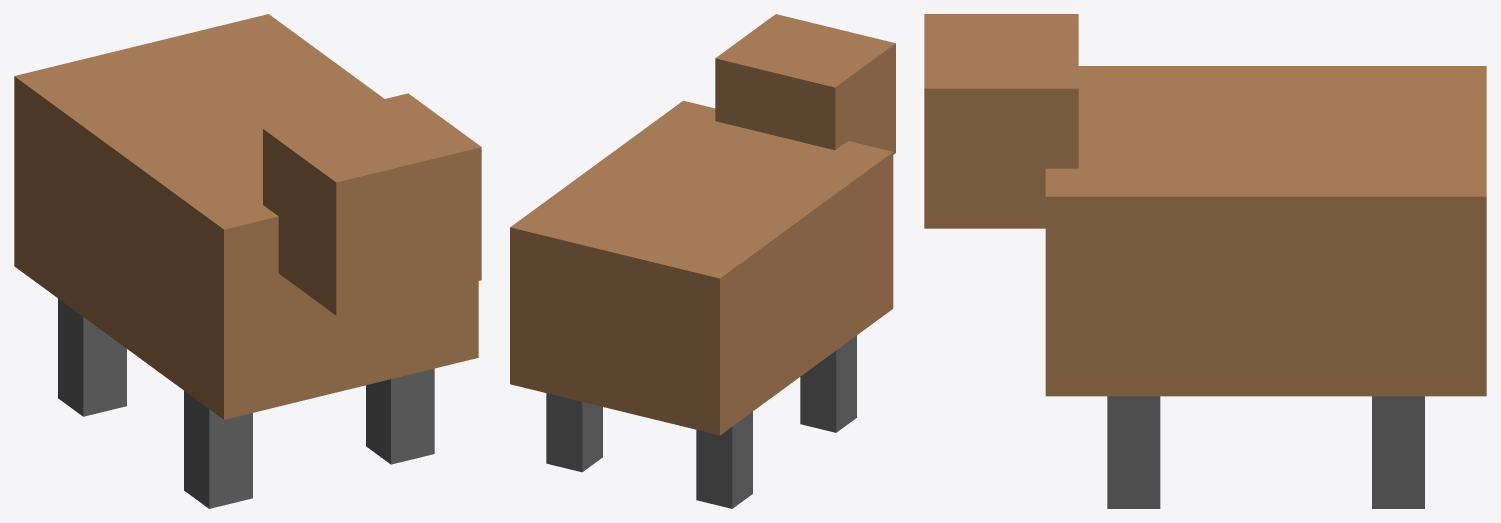
File: Mob_DS_DriftDuck_Young0.glb
The picture shows the model from 3 angles, left to right: view 1: azimuth 30°, elevation 25°; view 2: azimuth 150°, elevation 25°; view 3: azimuth 270°, elevation 25°; orthographic projection. The views are drawn at different scales.
Parts seen in each view (by area): view 1: Cube.004, Cube.005, Cube, Cube.001, Cube.002; view 2: Cube.004, Cube.005, Cube.001, Cube, Cube.003; view 3: Cube.004, Cube.005, Cube.002, Cube.003.
Part boxes in pixels (x1,y1,x2,y2): Cube.004: [14, 14, 478, 419]; Cube.005: [263, 93, 481, 315]; Cube: [184, 391, 252, 508]; Cube.001: [58, 298, 126, 416]; Cube.002: [366, 368, 434, 464]; Cube.004: [510, 100, 893, 435]; Cube.005: [715, 14, 895, 154]; Cube.001: [696, 411, 752, 508]; Cube: [800, 335, 856, 432]; Cube.003: [546, 393, 602, 472]; Cube.004: [1045, 66, 1486, 396]; Cube.005: [924, 14, 1078, 228]; Cube.002: [1107, 396, 1160, 508]; Cube.003: [1372, 396, 1424, 508].
Bounding box in the file's own units: 0.189 × 0.27 × 0.3443.
